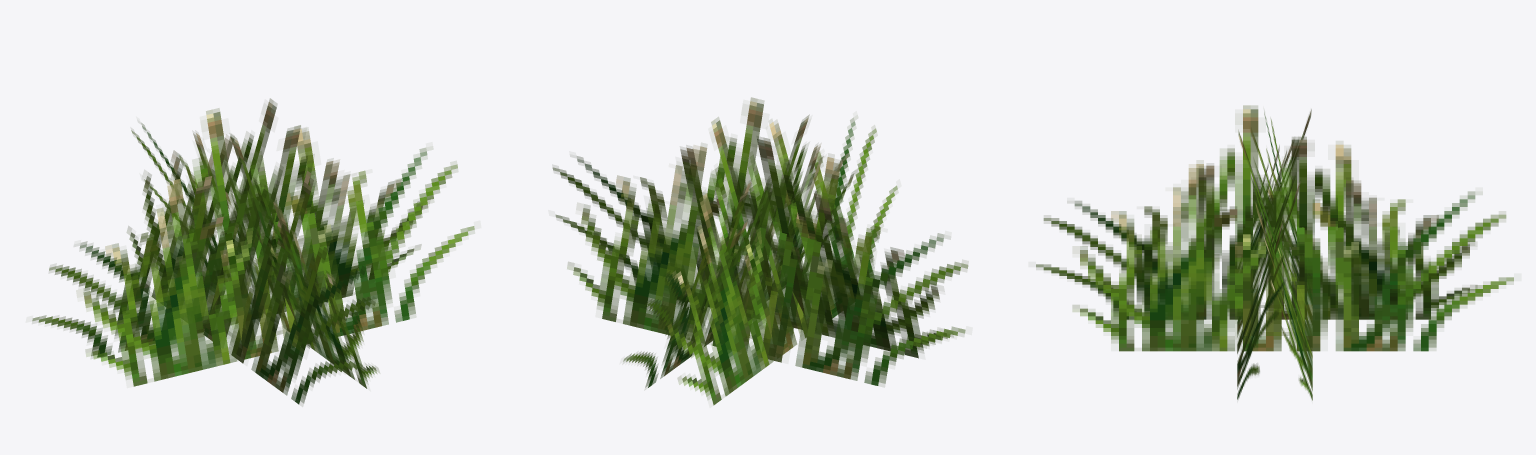
File: grass-01.glb
The picture shows the model from 3 angles, left to right: view 1: azimuth 30°, elevation 25°; view 2: azimuth 150°, elevation 25°; view 3: azimuth 270°, elevation 25°; orthographic projection. The views are drawn at different scales.
Parts seen in each view (by area): view 1: wrld_fol_grasscluster_a_1; view 2: wrld_fol_grasscluster_a_1; view 3: wrld_fol_grasscluster_a_1.
Boxes of the visible parts, <box> form: wrld_fol_grasscluster_a_1: <box>32,98,474,404</box>; wrld_fol_grasscluster_a_1: <box>552,97,968,405</box>; wrld_fol_grasscluster_a_1: <box>1036,105,1513,400</box>.
Size of the model in its own units: 2.75 by 1.34 by 2.75.
1 material, 1 textured.
